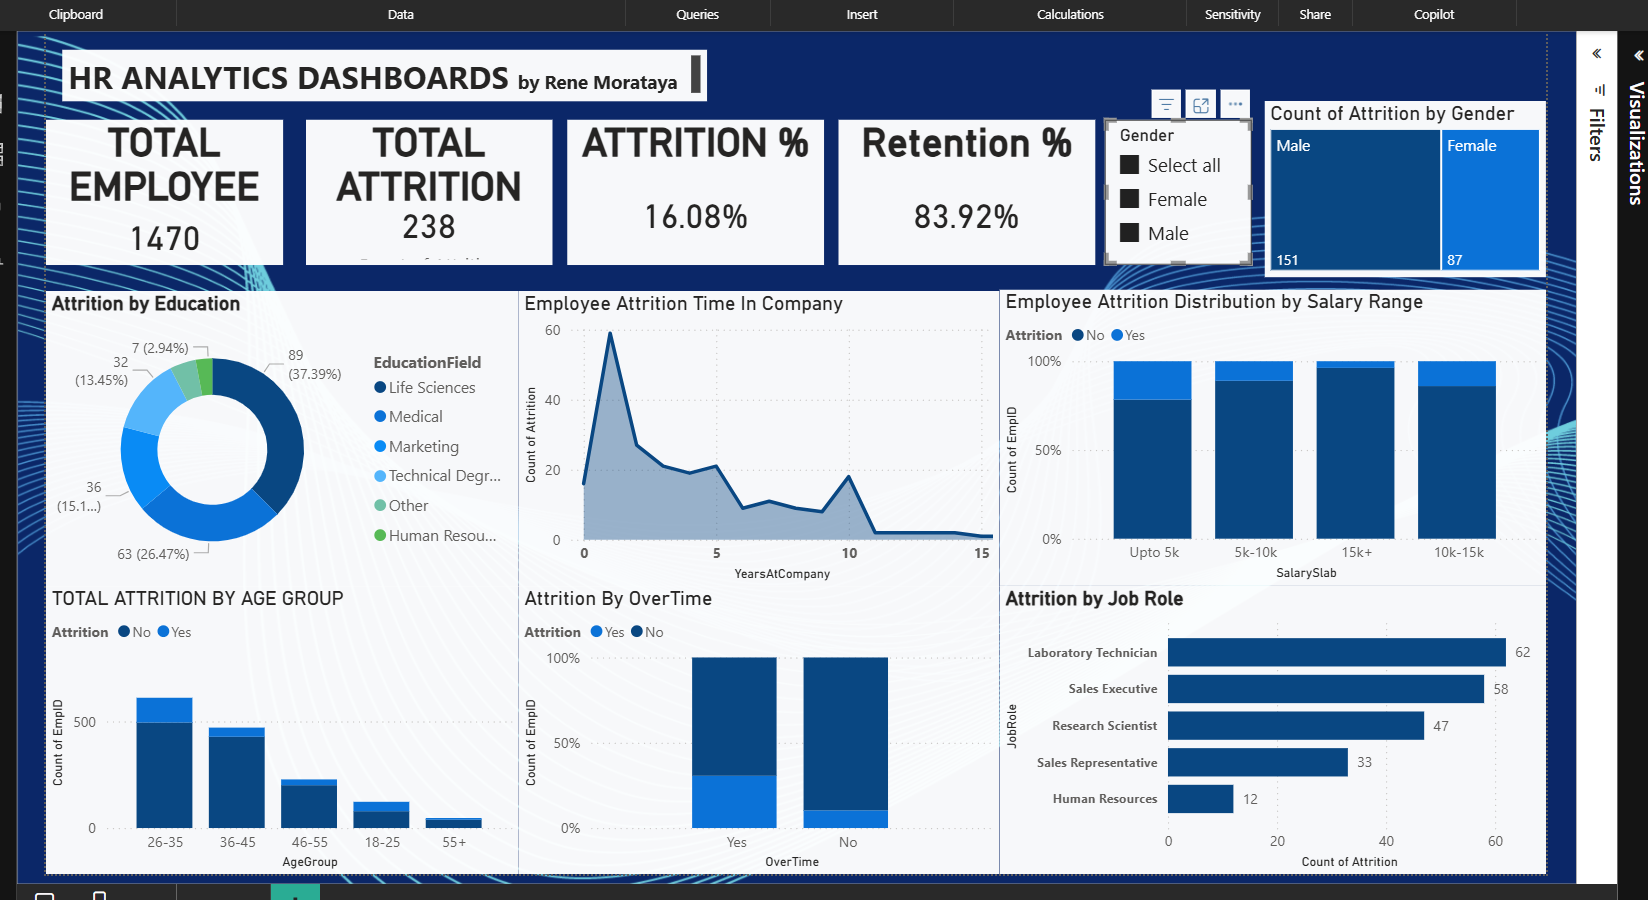

This screenshot's page, from the dashboard's own definition file:
{"tool":"powerbi","page":{"name":"Page 1","canvas":[1280,720],"ordinal":0},"visuals":[{"type":"columnChart","title":"TOTAL ATTRITION BY AGE GROUP","fields":{"Category":["HR_Analytics.AgeGroup"],"Y":["CountNonNull(HR_Analytics.EmpID)"],"Series":["HR_Analytics.Attrition"]},"box":[0,473.9,403.4,246.6],"z":0},{"type":"card","title":"TOTAL EMPLOYEE","fields":{"Values":["Count(HR_Analytics.EmpID)"]},"box":[0,76.1,202.3,123.9],"z":1000},{"type":"hundredPercentStackedColumnChart","title":" Attrition By OverTime","fields":{"Category":["HR_Analytics.OverTime"],"Y":["CountNonNull(HR_Analytics.EmpID)"],"Series":["HR_Analytics.Attrition"]},"box":[403.4,473.9,410.2,246.6],"z":2000},{"type":"donutChart","title":"Attrition by Education","fields":{"Category":["HR_Analytics.EducationField"],"Y":["CountNonNull(HR_Analytics.Attrition)"]},"box":[0,221.6,403.4,252.3],"z":3000},{"type":"stackedAreaChart","title":"Employee Attrition Time In Company ","fields":{"Category":["HR_Analytics.YearsAtCompany"],"Y":["CountNonNull(HR_Analytics.Attrition)"]},"box":[403.4,221.6,410.2,252.3],"z":4000},{"type":"treemap","fields":{"Group":["HR_Analytics.Gender"],"Values":["CountNonNull(HR_Analytics.Attrition)"]},"box":[1040,60,240,150],"z":5000},{"type":"clusteredBarChart","title":" Attrition by Job Role","fields":{"Category":["HR_Analytics.JobRole"],"Y":["CountNonNull(HR_Analytics.Attrition)"]},"box":[813.8,473.8,466.2,246.2],"z":6000},{"type":"hundredPercentStackedColumnChart","title":"Employee Attrition Distribution by Salary Range","fields":{"Category":["HR_Analytics.SalarySlab"],"Series":["HR_Analytics.Attrition"],"Y":["CountNonNull(HR_Analytics.EmpID)"]},"box":[813.8,221.2,466.2,252.5],"z":7000},{"type":"textbox","box":[13.8,16.2,550,43.8],"z":8000},{"type":"card","title":"TOTAL ATTRITION","fields":{"Values":["CountNonNull(HR_Analytics.Attrition)"]},"box":[221.6,76.1,210.2,123.9],"z":9000},{"type":"card","title":"ATTRITION %","fields":{"Values":["HR_Analytics.Attrition %"]},"box":[445.5,76.1,219.3,123.9],"z":10000},{"type":"card","title":"Retention  %","fields":{"Values":["HR_Analytics.Retention %"]},"box":[676.1,76.1,219.3,123.9],"z":11000},{"type":"slicer","fields":{"Values":["HR_Analytics.Gender"]},"box":[903.7,75.8,124.8,123.8],"z":11001}]}

Visuals, with their boxes on the page's 1280x720 design canvas (x1, y1, x2, y2). These are canvas units, not pixel positions in the 1648x900 screenshot, which may show the page scaled, cropped or inside an application window:
"TOTAL ATTRITION BY AGE GROUP" columnChart: <region>0, 474, 403, 720</region>
"TOTAL EMPLOYEE" card: <region>0, 76, 202, 200</region>
" Attrition By OverTime" hundredPercentStackedColumnChart: <region>403, 474, 814, 720</region>
"Attrition by Education" donutChart: <region>0, 222, 403, 474</region>
"Employee Attrition Time In Company " stackedAreaChart: <region>403, 222, 814, 474</region>
treemap - HR_Analytics.Gender x CountNonNull(HR_Analytics.Attrition): <region>1040, 60, 1280, 210</region>
" Attrition by Job Role" clusteredBarChart: <region>814, 474, 1280, 720</region>
"Employee Attrition Distribution by Salary Range" hundredPercentStackedColumnChart: <region>814, 221, 1280, 474</region>
textbox: <region>14, 16, 564, 60</region>
"TOTAL ATTRITION" card: <region>222, 76, 432, 200</region>
"ATTRITION %" card: <region>446, 76, 665, 200</region>
"Retention  %" card: <region>676, 76, 895, 200</region>
slicer - HR_Analytics.Gender: <region>904, 76, 1028, 200</region>
